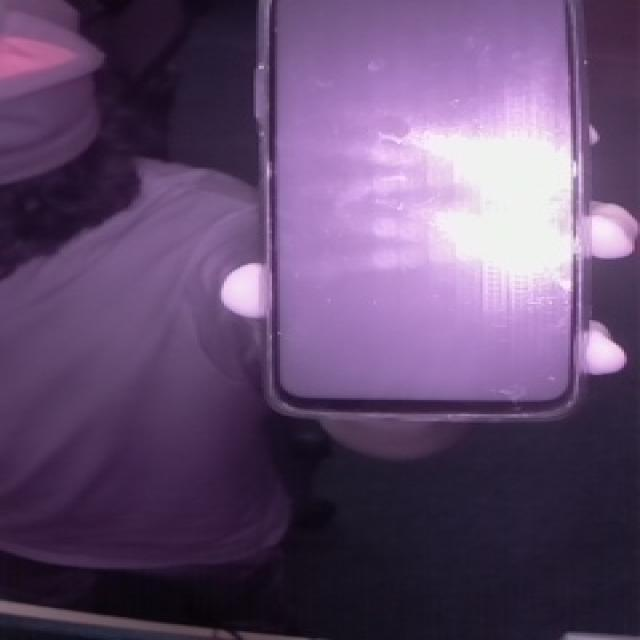phone: (245, 0, 610, 434)
